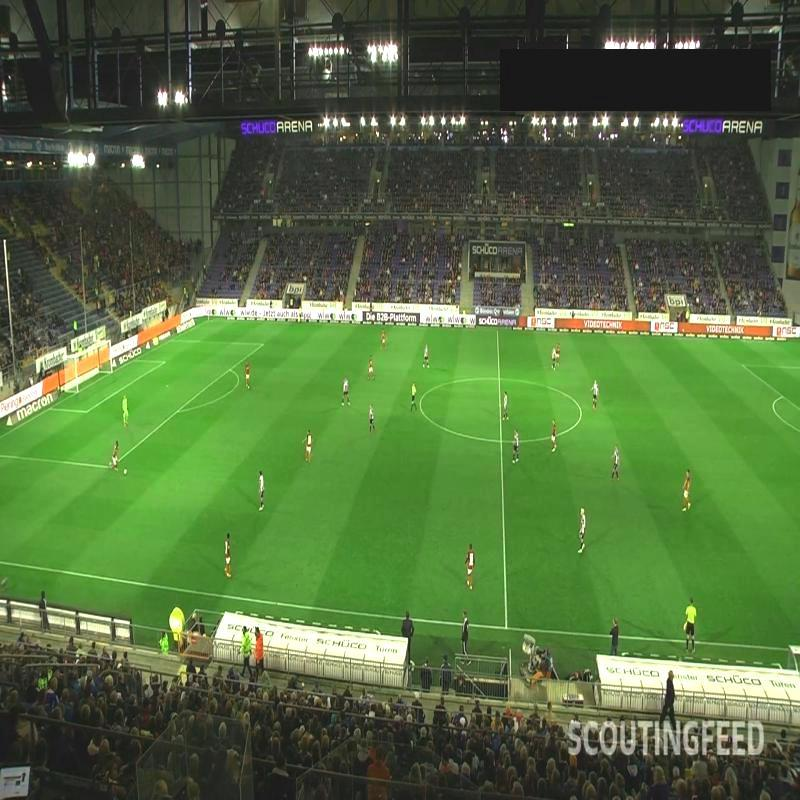1: (204, 316, 212, 325)
10: (776, 389, 790, 403), (223, 364, 238, 376)
11: (171, 403, 185, 417)
12: (106, 460, 120, 474)
13: (491, 322, 505, 336)
14: (493, 370, 507, 384)
15: (495, 432, 509, 446)
16: (497, 618, 514, 637)
2: (163, 334, 177, 348)
3: (127, 354, 141, 368)
4: (42, 402, 55, 416)
7: (158, 354, 172, 368)
8: (80, 404, 94, 418)
9: (736, 358, 750, 372), (258, 339, 270, 350)
c: (414, 397, 428, 411), (576, 405, 586, 421)
